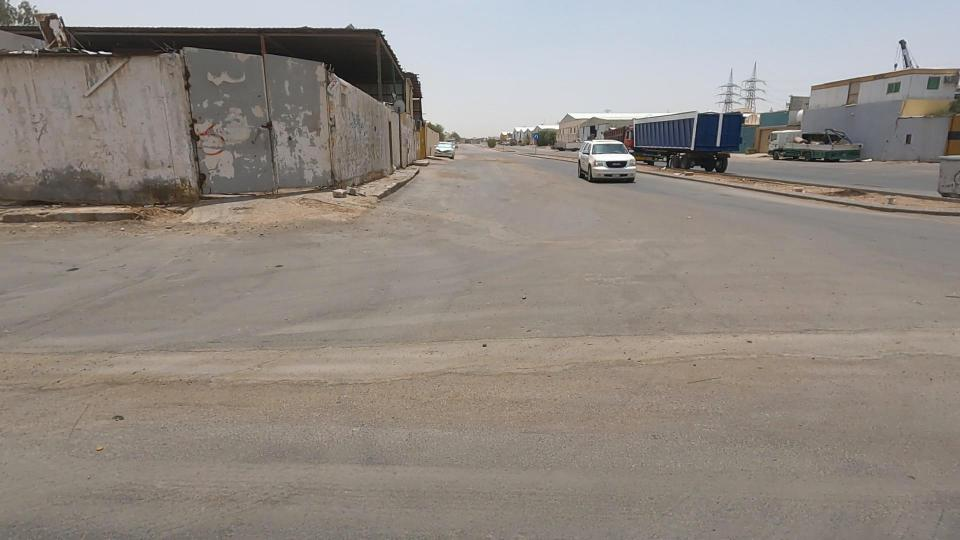CLUTTER_SIDEWALK: (762, 161, 960, 244), (682, 146, 840, 224)
POTHOLES: (292, 274, 600, 481), (104, 302, 412, 476)
